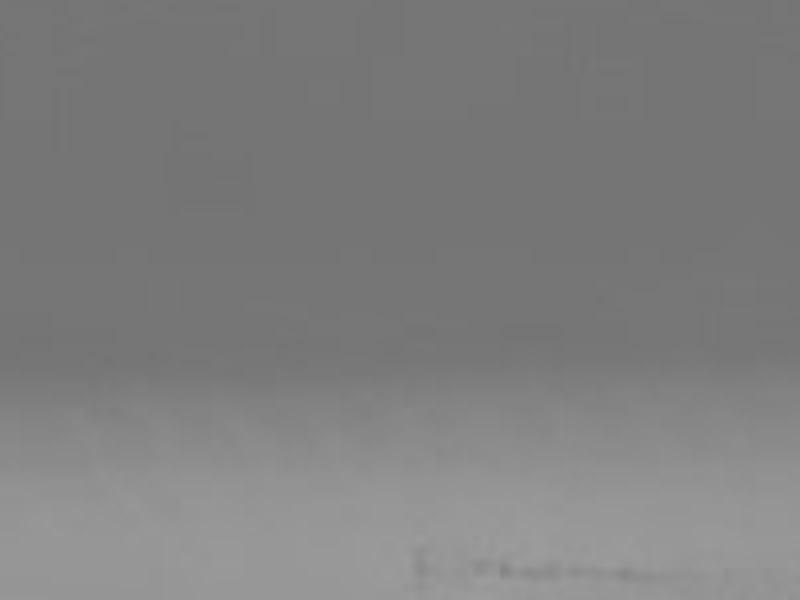defect: (523, 561, 558, 590), (410, 537, 432, 583), (468, 556, 491, 580), (498, 563, 518, 586), (618, 561, 637, 584)
